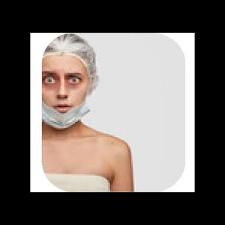mask_weared_incorrect: (43, 64, 84, 125)
